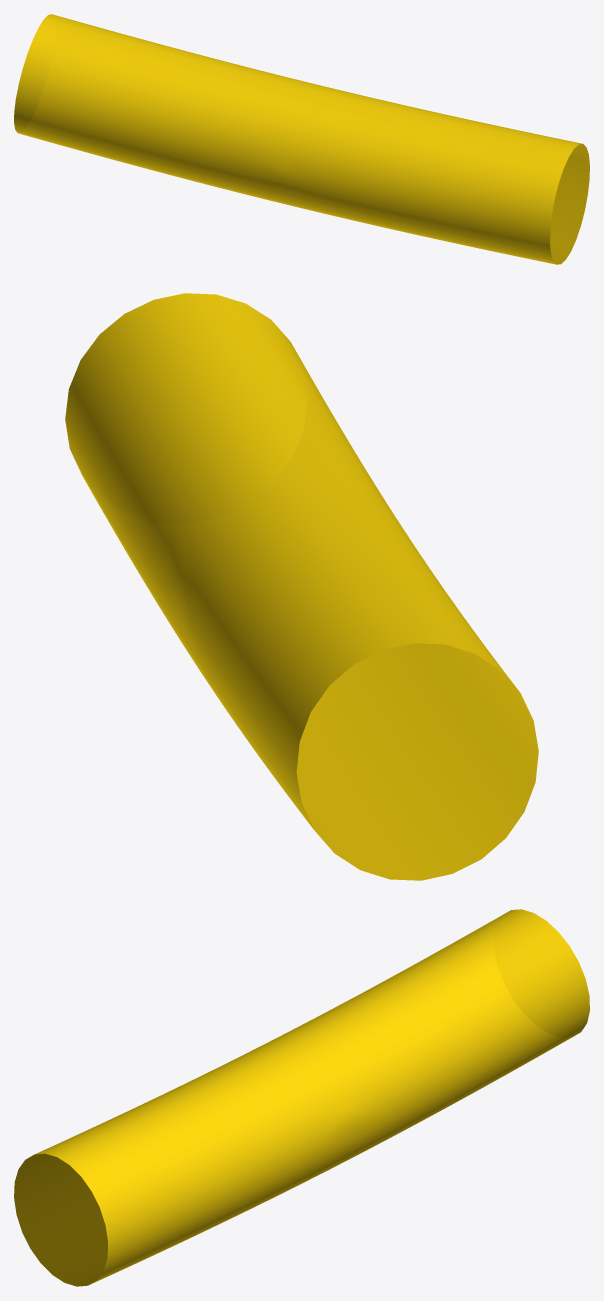
The model's file is Event_420094457_track_3.fbx.
3 renders of one model, top to bottom at view 1: azimuth 30°, elevation 25°; view 2: azimuth 150°, elevation 25°; view 3: azimuth 270°, elevation 25°, orthographic. The views are drawn at different scales.
Parts seen in each view (by area): view 1: Model; view 2: Model; view 3: Model.
Boxes of the visible parts, <box> form: Model: <box>14,14,589,264</box>; Model: <box>65,293,538,880</box>; Model: <box>14,909,589,1286</box>.
Size of the model in its own units: 0.1511 by 0.0598 by 0.1623.
